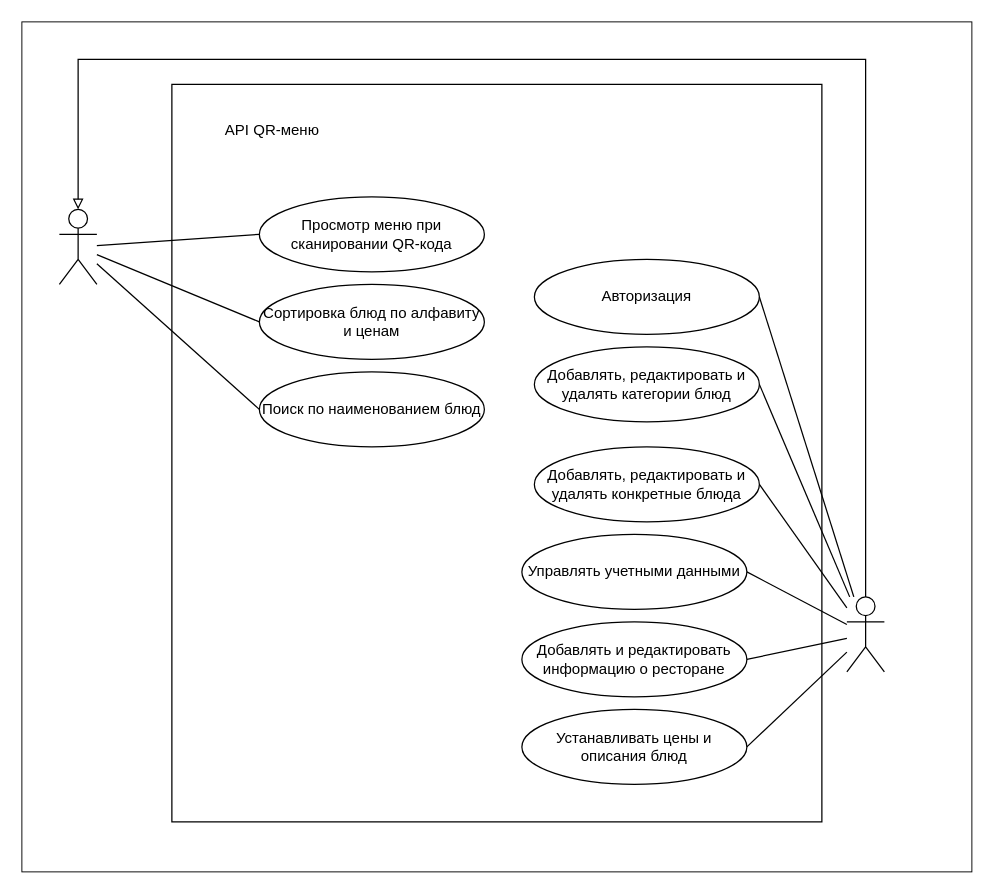
This 994x894 diagram has some shape labels left out. Each missing label, with the box of its shape:
Администратор: (846, 596, 884, 672)
Гость: (58, 208, 97, 284)
